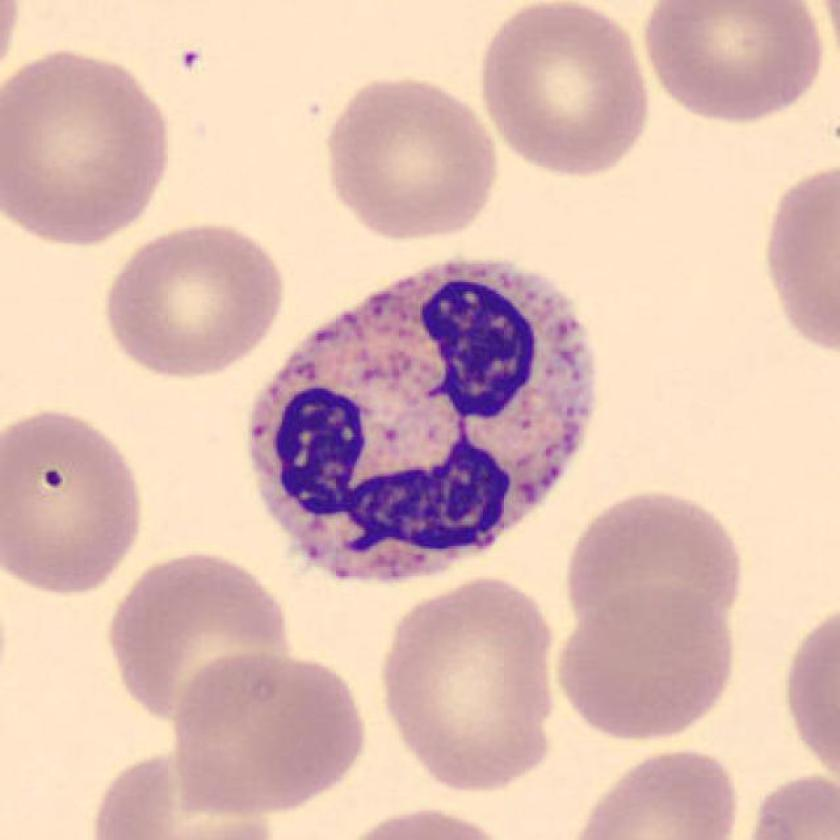neutrophil: (254, 260, 592, 580)
